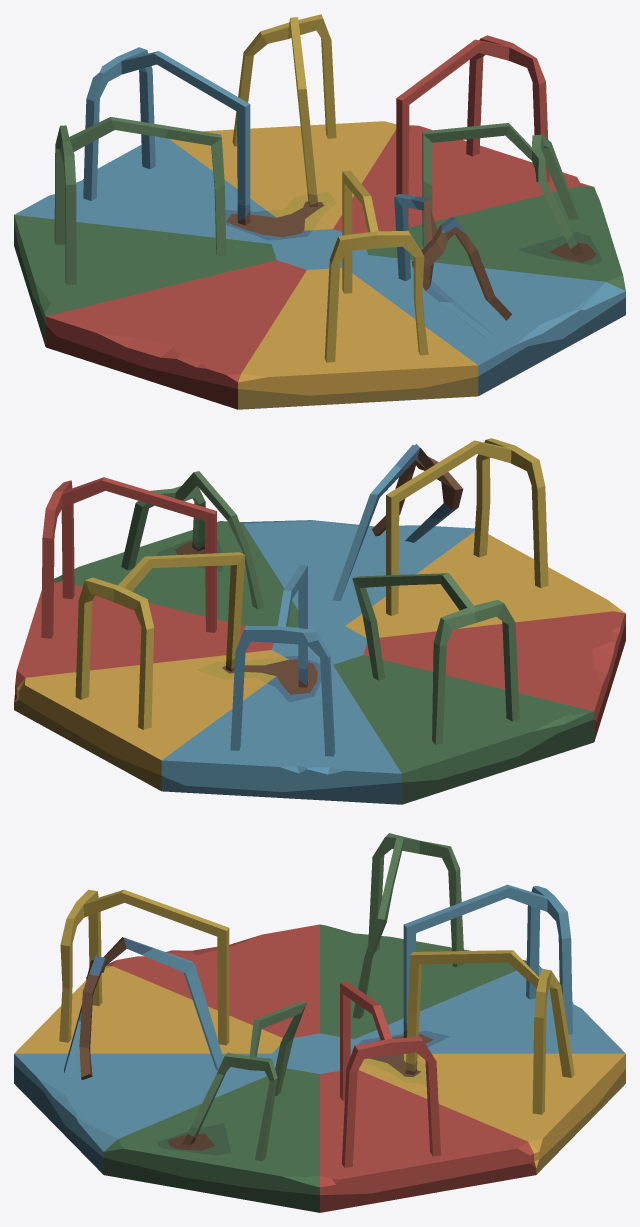
Rendered from SM_Prop_Playground_Roundabout_01.obj.
3 views of the same model, one above another, from view 1: azimuth 30°, elevation 25°; view 2: azimuth 150°, elevation 25°; view 3: azimuth 270°, elevation 25° (orthographic). The views are drawn at different scales.
Parts seen in each view (by area): view 1: SM_Prop_Playground_Roundabout_01_0; view 2: SM_Prop_Playground_Roundabout_01_0; view 3: SM_Prop_Playground_Roundabout_01_0.
Part boxes in pixels (x1,y1,x2,y2): SM_Prop_Playground_Roundabout_01_0: (14, 14, 625, 409); SM_Prop_Playground_Roundabout_01_0: (14, 438, 625, 804); SM_Prop_Playground_Roundabout_01_0: (14, 833, 625, 1212).
Bounding box in the file's own units: 3.19 × 1.09 × 3.19.
1 material, 1 textured.
